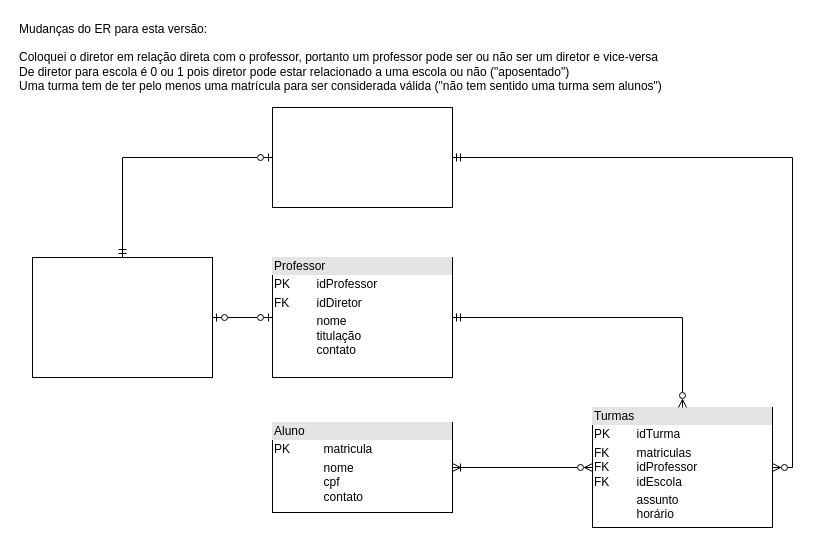
Some shapes in this 819 by 545 pixel diagram are drawn without their labels. Here are the shapes that lost their labels. From the top down, the centre of each, then its label:
At (362,157): "Escola PK idEscola FK idDiretor nome localização horário".
At (122,317): "Diretor PK idDiretor nome contato".
